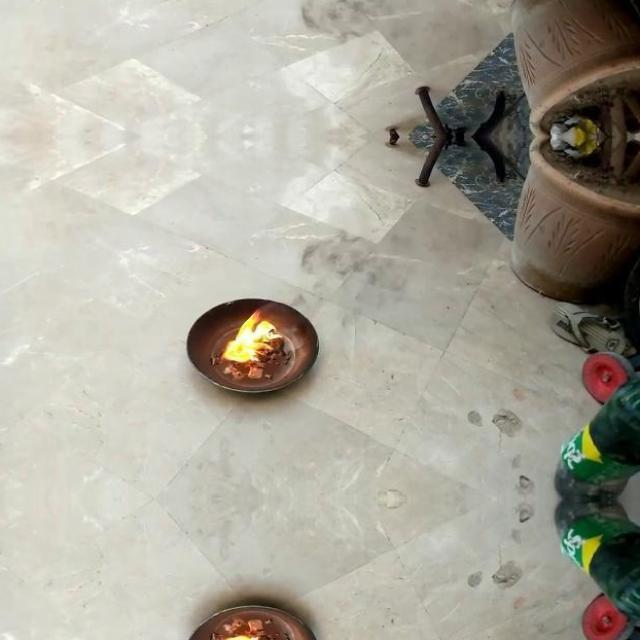smoke: (213, 306, 291, 378), (213, 619, 291, 640)
